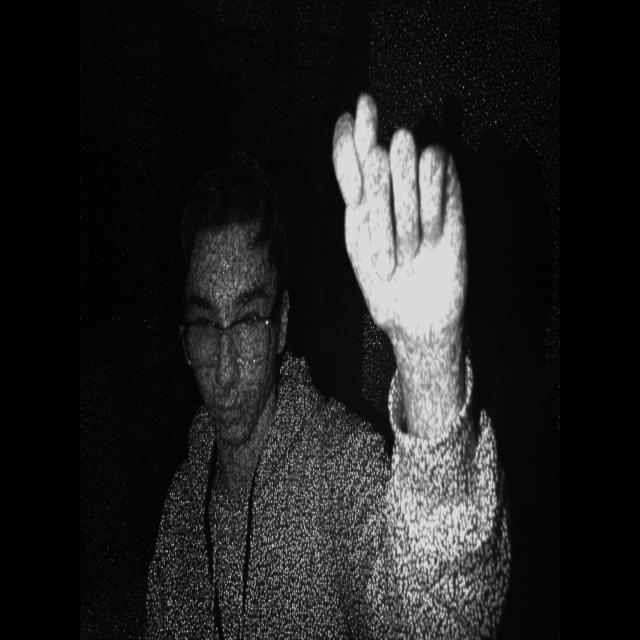T: (315, 81, 502, 385)
